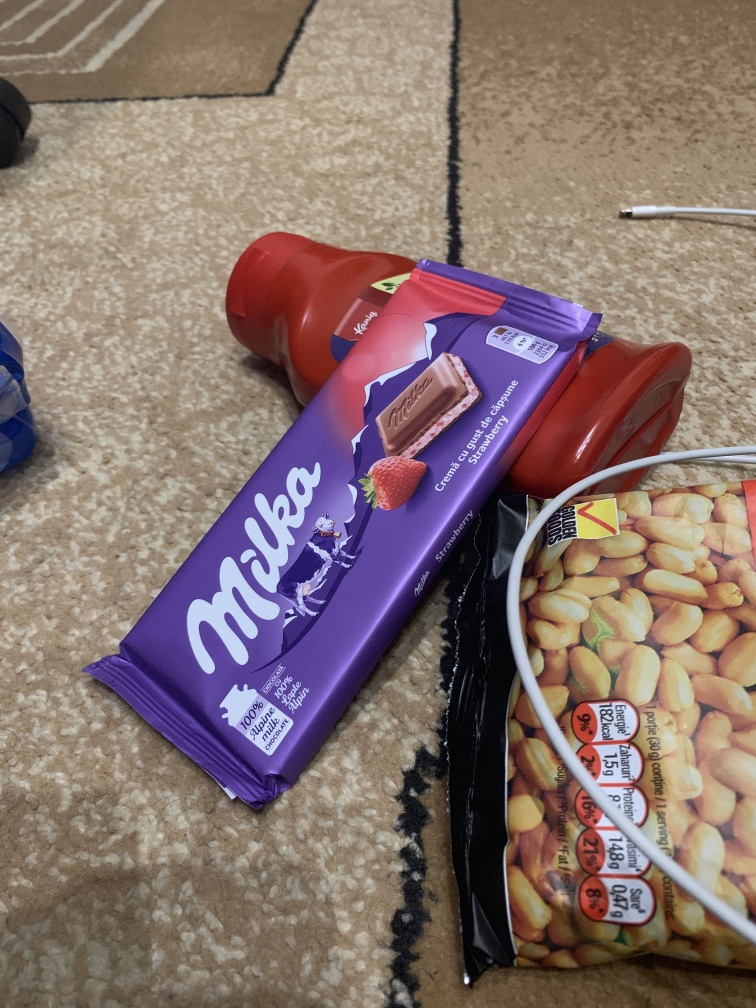ketchup: (219, 214, 696, 520)
milka: (103, 256, 598, 815)
peanuts: (462, 477, 756, 986)
